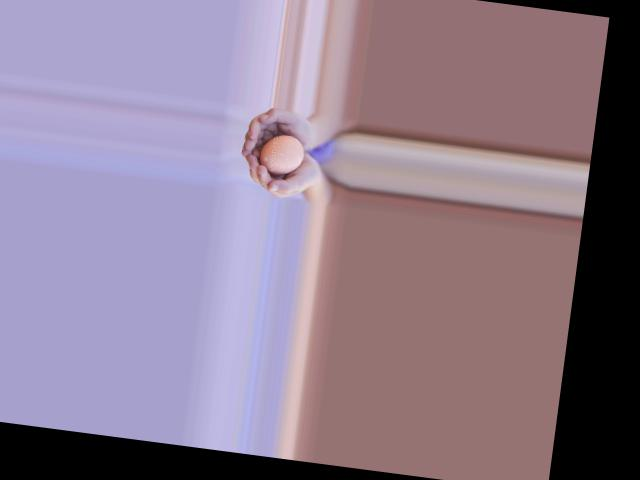egg: (257, 131, 306, 176)
